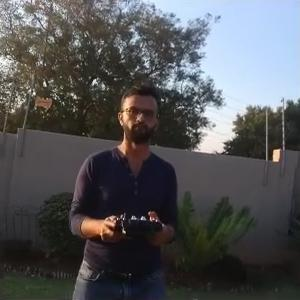follow: (63, 77, 185, 298)
